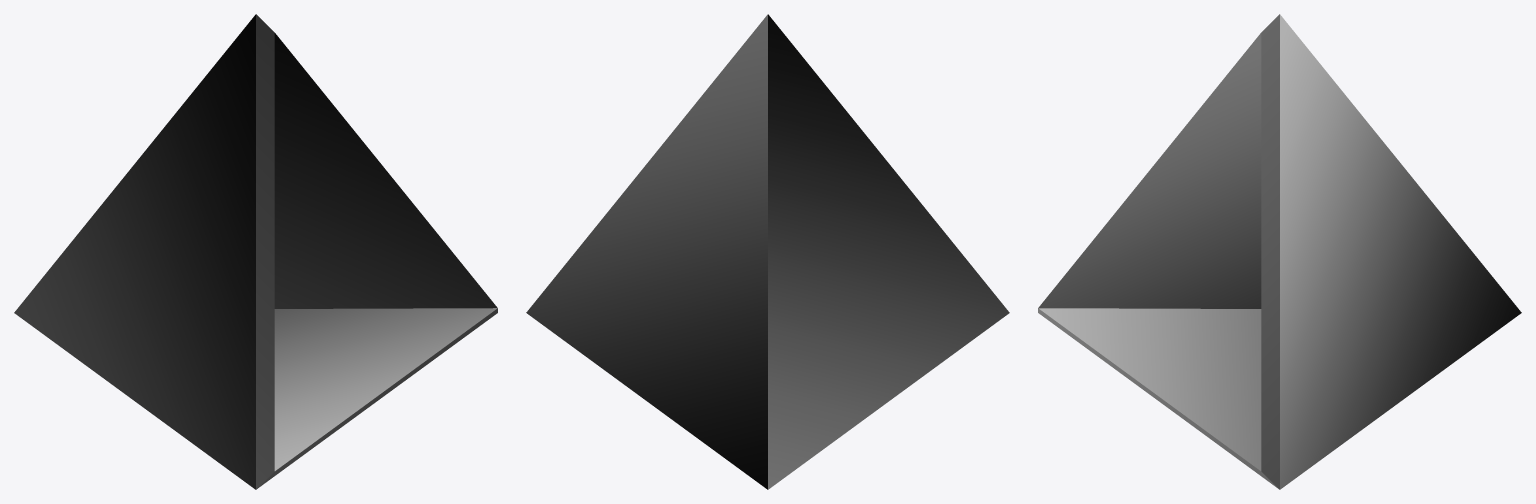
The picture shows the model from 3 angles, left to right: view 1: azimuth 30°, elevation 25°; view 2: azimuth 150°, elevation 25°; view 3: azimuth 270°, elevation 25°; orthographic projection.
Visible parts, largest first — view 1: Solid; view 2: Solid; view 3: Solid.
Boxes of the visible parts, box(x1,y1,x2,y2) form: Solid: box(14, 14, 497, 489); Solid: box(526, 14, 1009, 489); Solid: box(1038, 14, 1521, 489).
Bounding box in the file's own units: 1.41 × 1.33 × 1.63.
Materials: 1 (1 with a texture image).
